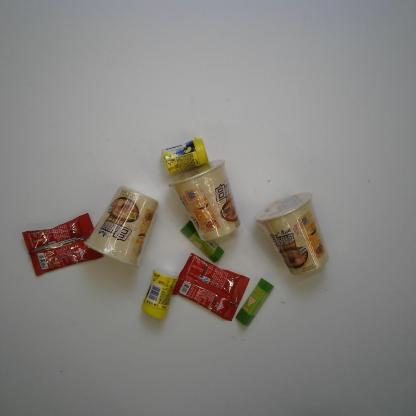Gum: (137, 269, 179, 325), (158, 135, 209, 179)
Instant Drink: (21, 211, 107, 276), (170, 253, 251, 322)
Instant Noodles: (251, 188, 332, 279), (82, 183, 161, 271), (166, 156, 242, 243)
Stationery: (234, 275, 274, 330), (178, 219, 226, 264)
